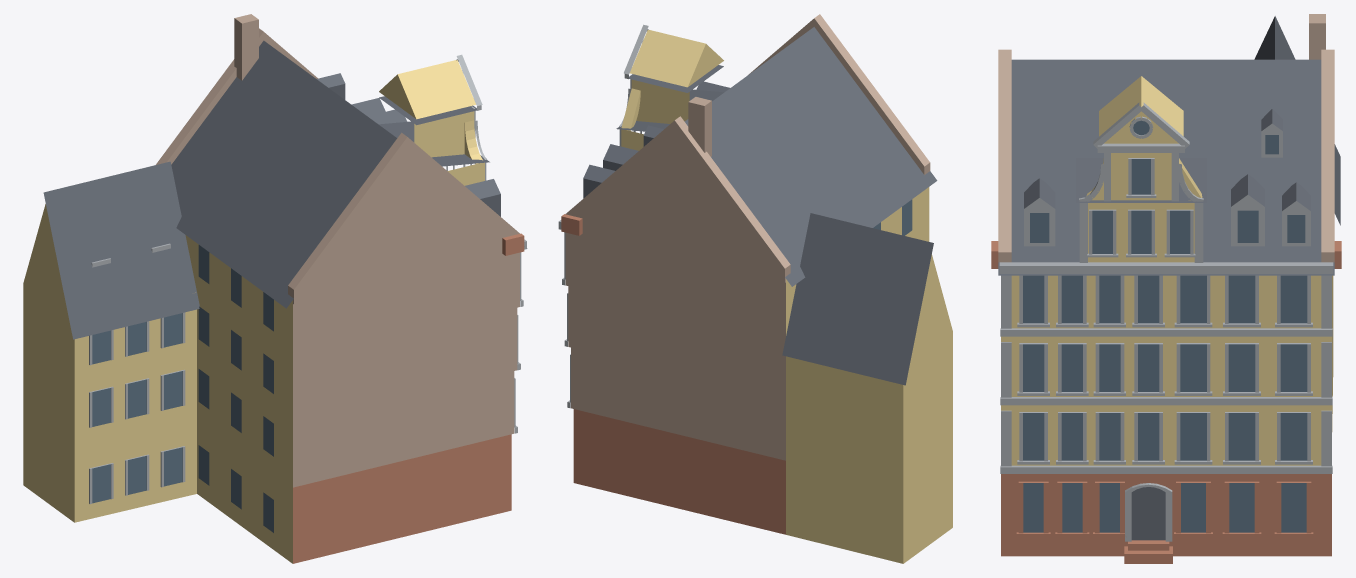
The model's file is frankfurt-goethe-haus.glb.
3 renders of one model, left to right at view 1: azimuth 30°, elevation 25°; view 2: azimuth 150°, elevation 25°; view 3: azimuth 270°, elevation 25°, orthographic. The views are drawn at different scales.
Visible parts, largest first — view 1: Goethe-Haus; view 2: Goethe-Haus; view 3: Goethe-Haus.
Part boxes in pixels (bbox=[...]): Goethe-Haus: bbox=[23, 14, 527, 563]; Goethe-Haus: bbox=[558, 14, 952, 563]; Goethe-Haus: bbox=[991, 14, 1341, 563].
Bounding box in the file's own units: 19.35 × 21.4 × 14.47.
